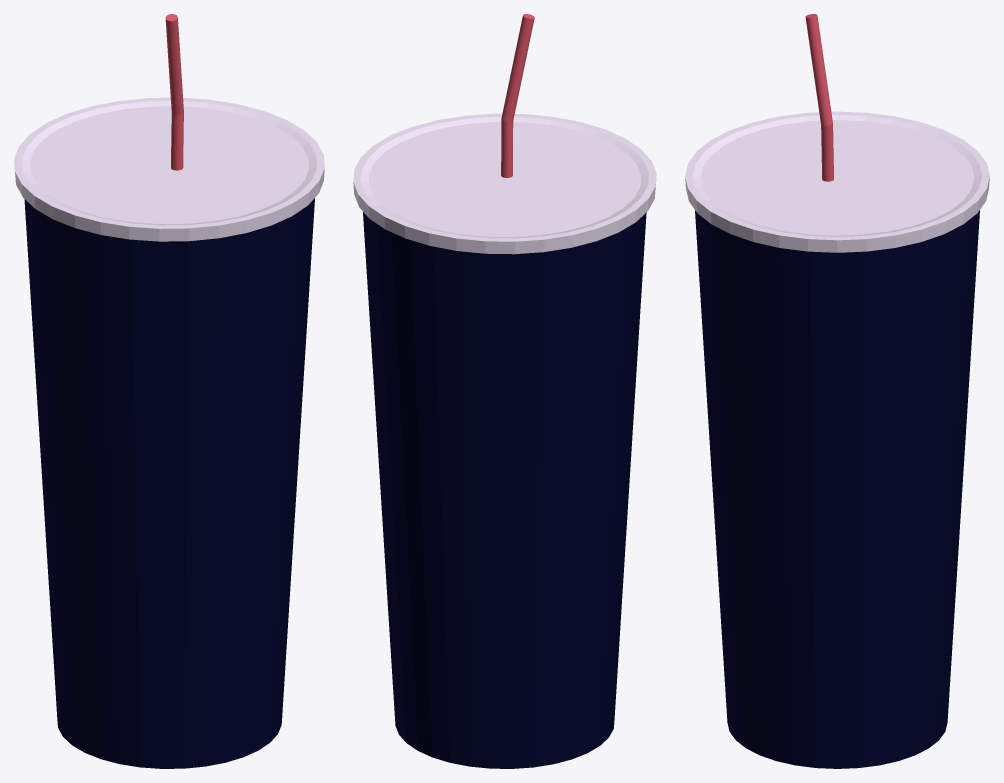
File: Drink.glb
3 views of the same model, side by side, from view 1: azimuth 30°, elevation 25°; view 2: azimuth 150°, elevation 25°; view 3: azimuth 270°, elevation 25° (orthographic). The views are drawn at different scales.
Parts seen in each view (by area): view 1: Cylinder, Cylinder.001; view 2: Cylinder, Cylinder.001; view 3: Cylinder, Cylinder.001.
Boxes of the visible parts, <box> form: Cylinder: <box>14,97,324,768</box>; Cylinder.001: <box>165,14,183,170</box>; Cylinder: <box>353,113,656,768</box>; Cylinder.001: <box>501,14,534,177</box>; Cylinder: <box>685,111,989,768</box>; Cylinder.001: <box>805,14,833,181</box>.
Size of the model in its own units: 0.1263 by 0.3213 by 0.1263.
